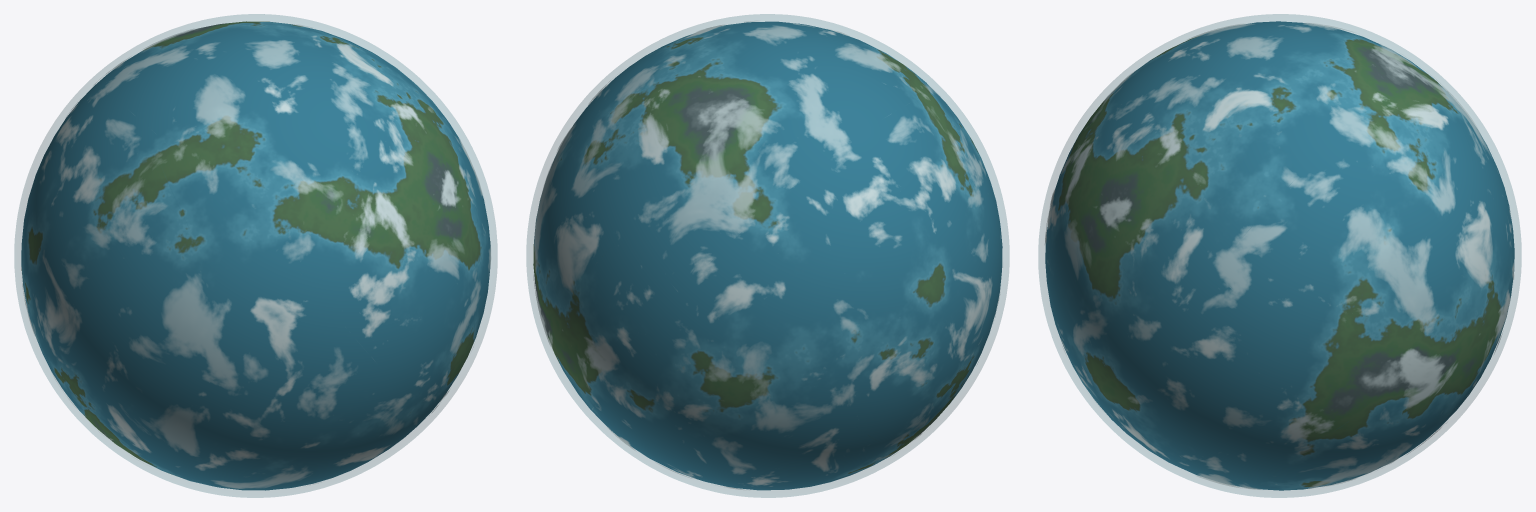
The picture shows the model from 3 angles, left to right: view 1: azimuth 30°, elevation 25°; view 2: azimuth 150°, elevation 25°; view 3: azimuth 270°, elevation 25°; orthographic projection.
Visible parts, largest first — view 1: atmosphere_2, planet_0, clouds_1; view 2: atmosphere_2, planet_0, clouds_1; view 3: atmosphere_2, planet_0, clouds_1.
Part boxes in pixels (left/top/right/bottom): atmosphere_2: left=14, top=14, right=497, bottom=497; planet_0: left=21, top=21, right=490, bottom=490; clouds_1: left=21, top=24, right=490, bottom=488; atmosphere_2: left=526, top=14, right=1009, bottom=497; planet_0: left=533, top=21, right=1002, bottom=490; clouds_1: left=533, top=21, right=1000, bottom=489; atmosphere_2: left=1038, top=14, right=1521, bottom=497; planet_0: left=1045, top=21, right=1514, bottom=490; clouds_1: left=1044, top=23, right=1513, bottom=489.
Bounding box in the file's own units: 2.04 × 2.04 × 2.04.
3 materials, 2 textured.
